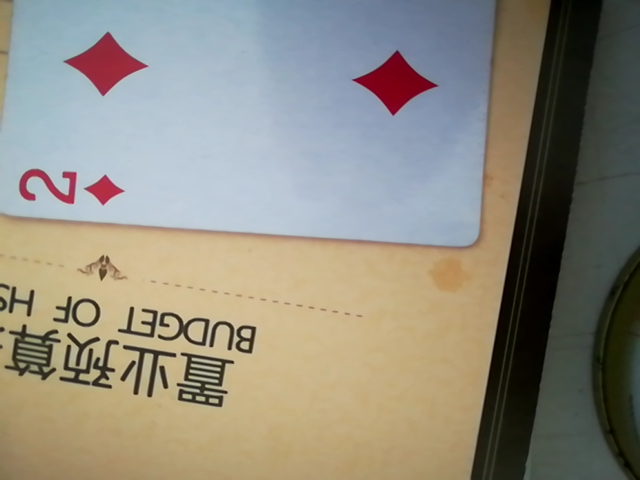fk 2: (1, 0, 494, 246)
